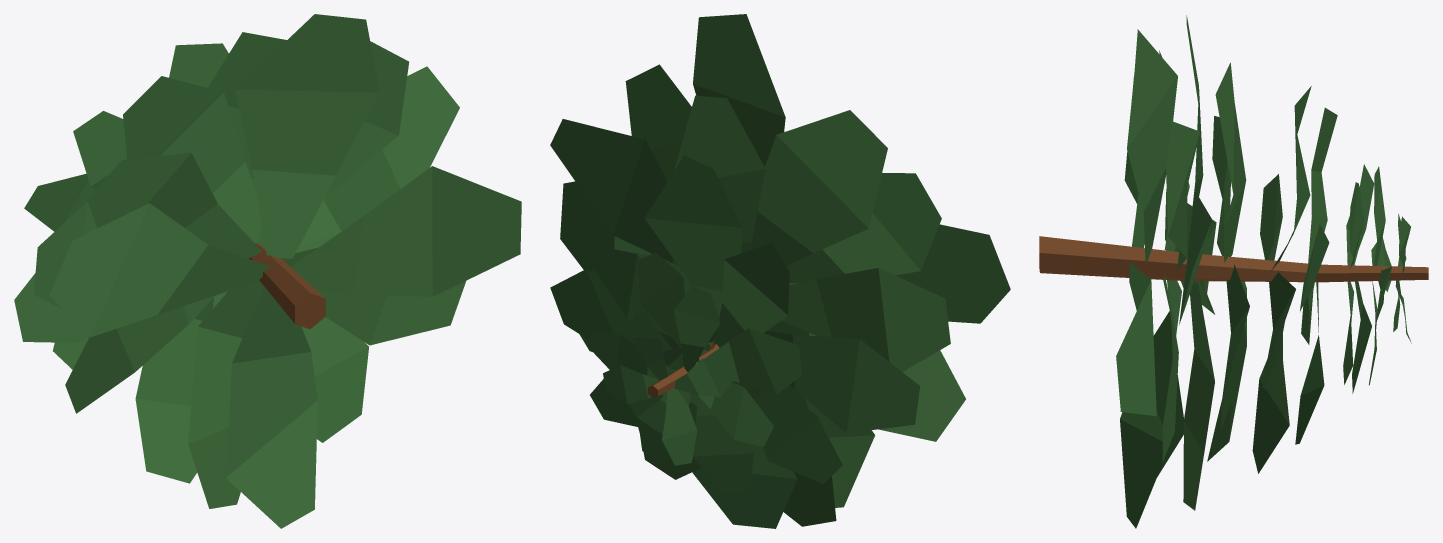
File: tree3-1.fbx
The picture shows the model from 3 angles, left to right: view 1: azimuth 30°, elevation 25°; view 2: azimuth 150°, elevation 25°; view 3: azimuth 270°, elevation 25°; orthographic projection. The views are drawn at different scales.
Visible parts, largest first — view 1: Cylinder; view 2: Cylinder; view 3: Cylinder.
Boxes of the visible parts, x1=… form: Cylinder: x1=14, y1=14, x2=521, y2=528; Cylinder: x1=550, y1=14, x2=1010, y2=528; Cylinder: x1=1039, y1=15, x2=1428, y2=528.
Bounding box in the file's own units: 212 × 219 × 153.
